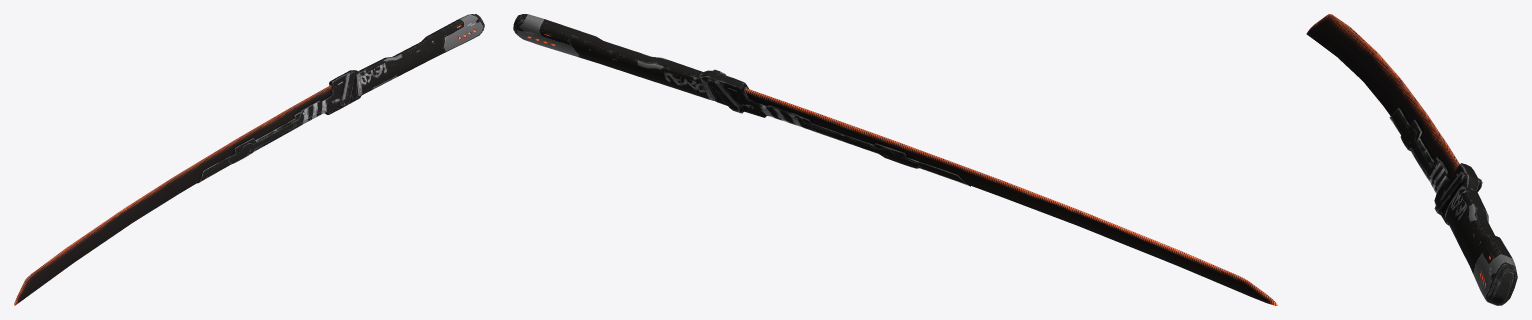
Rendered from katana.glb.
3 views of the same model, side by side, from view 1: azimuth 30°, elevation 25°; view 2: azimuth 150°, elevation 25°; view 3: azimuth 270°, elevation 25° (orthographic). The views are drawn at different scales.
Visible parts, largest first — view 1: lp.001; view 2: lp.001; view 3: lp.001.
Part boxes in pixels (box(x1,y1,x2,y2)): lp.001: box(14, 14, 484, 305); lp.001: box(513, 14, 1277, 305); lp.001: box(1306, 14, 1517, 305).
Size of the model in its own units: 11314 by 2723 by 2060.
1 material, 1 textured.
